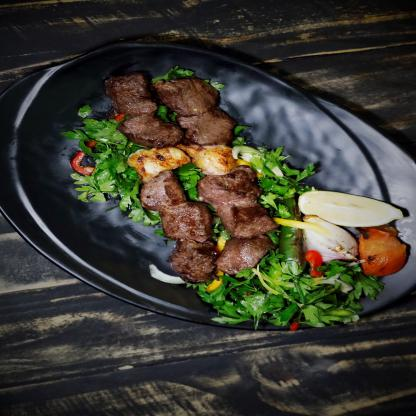Carne: (166, 237, 224, 285), (193, 168, 260, 209), (172, 108, 243, 144), (117, 112, 188, 148), (156, 80, 218, 116), (134, 173, 194, 208), (215, 204, 276, 238), (155, 205, 214, 239), (216, 236, 272, 268), (109, 78, 159, 113)
